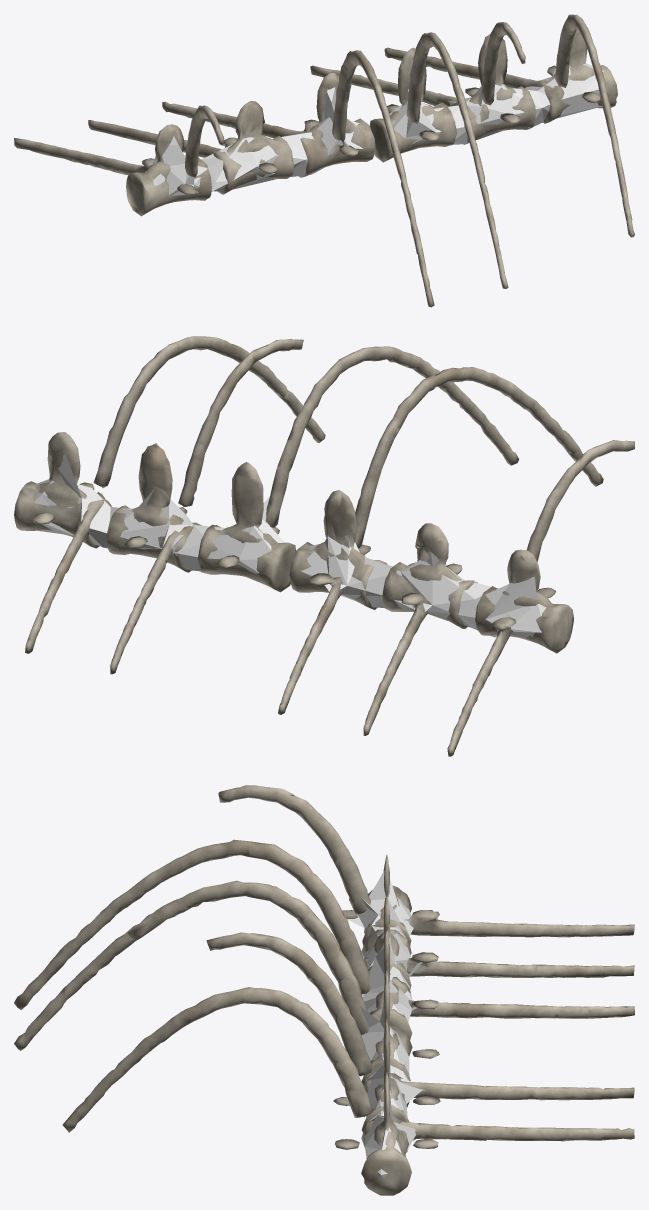
File: PROP_P2_Ribcage.fbx
3 renders of one model, top to bottom at view 1: azimuth 30°, elevation 25°; view 2: azimuth 150°, elevation 25°; view 3: azimuth 270°, elevation 25°, orthographic. The views are drawn at different scales.
Parts seen in each view (by area): view 1: PROP_P2_Ribcage_LOD0, PROP_P2_Ribcage_COL; view 2: PROP_P2_Ribcage_LOD0, PROP_P2_Ribcage_COL; view 3: PROP_P2_Ribcage_LOD0, PROP_P2_Ribcage_COL.
Boxes of the visible parts, left/top/right/bottom form: PROP_P2_Ribcage_LOD0: left=14, top=14, right=634, bottom=307; PROP_P2_Ribcage_COL: left=144, top=63, right=606, bottom=200; PROP_P2_Ribcage_LOD0: left=14, top=336, right=634, bottom=756; PROP_P2_Ribcage_COL: left=33, top=454, right=552, bottom=643; PROP_P2_Ribcage_LOD0: left=14, top=785, right=634, bottom=1195; PROP_P2_Ribcage_COL: left=347, top=863, right=602, bottom=1178.
Size of what is drawn, in the model's own units: 4.33 by 1.45 by 4.25.
